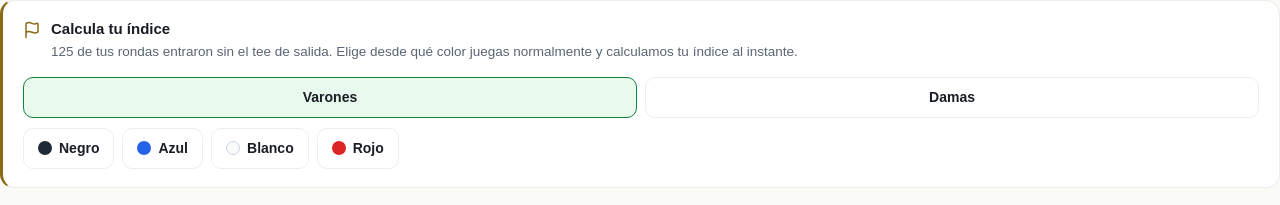
DefaultTeeBanner — red de seguridad del tee › con género ya en el perfil, un tap al color postea {color, genero} y confirma
Click the button "Azul": (163, 148) [122,128,203,168]
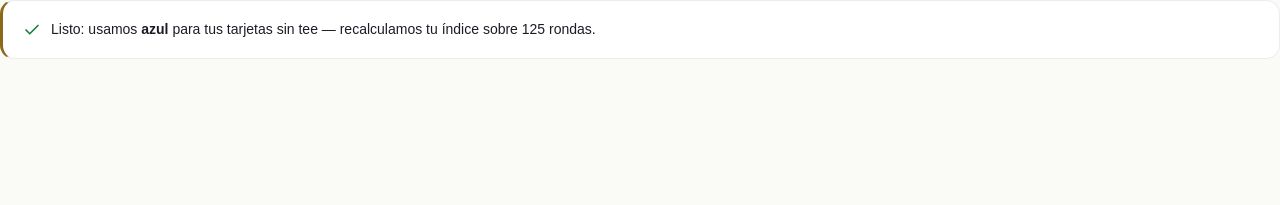
Expected: the text "recalculamos tu índice sobre 125 rondas" is shown, [318,21,596,37]
